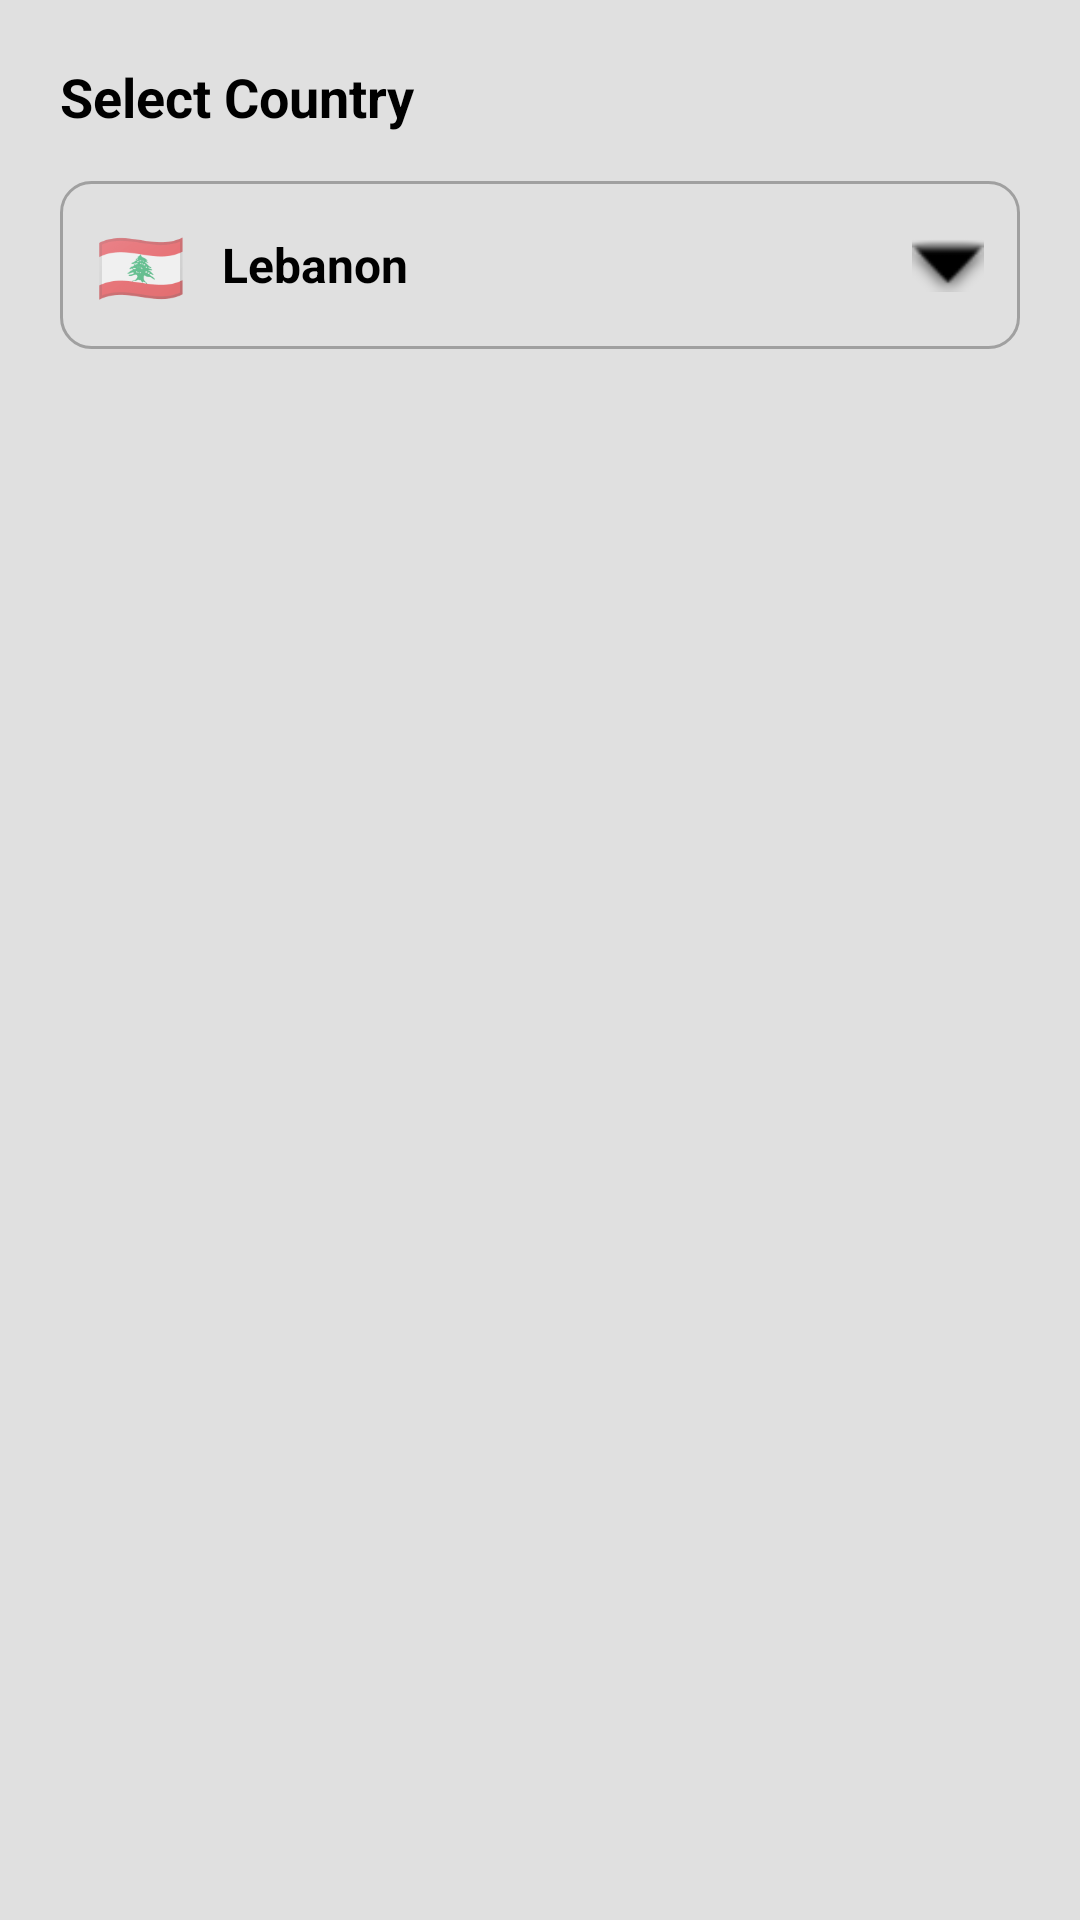

Where to tap for icons on this 1080*1920 app screen, as (x=x, y=y):
arrow down float: (x=948, y=265)
